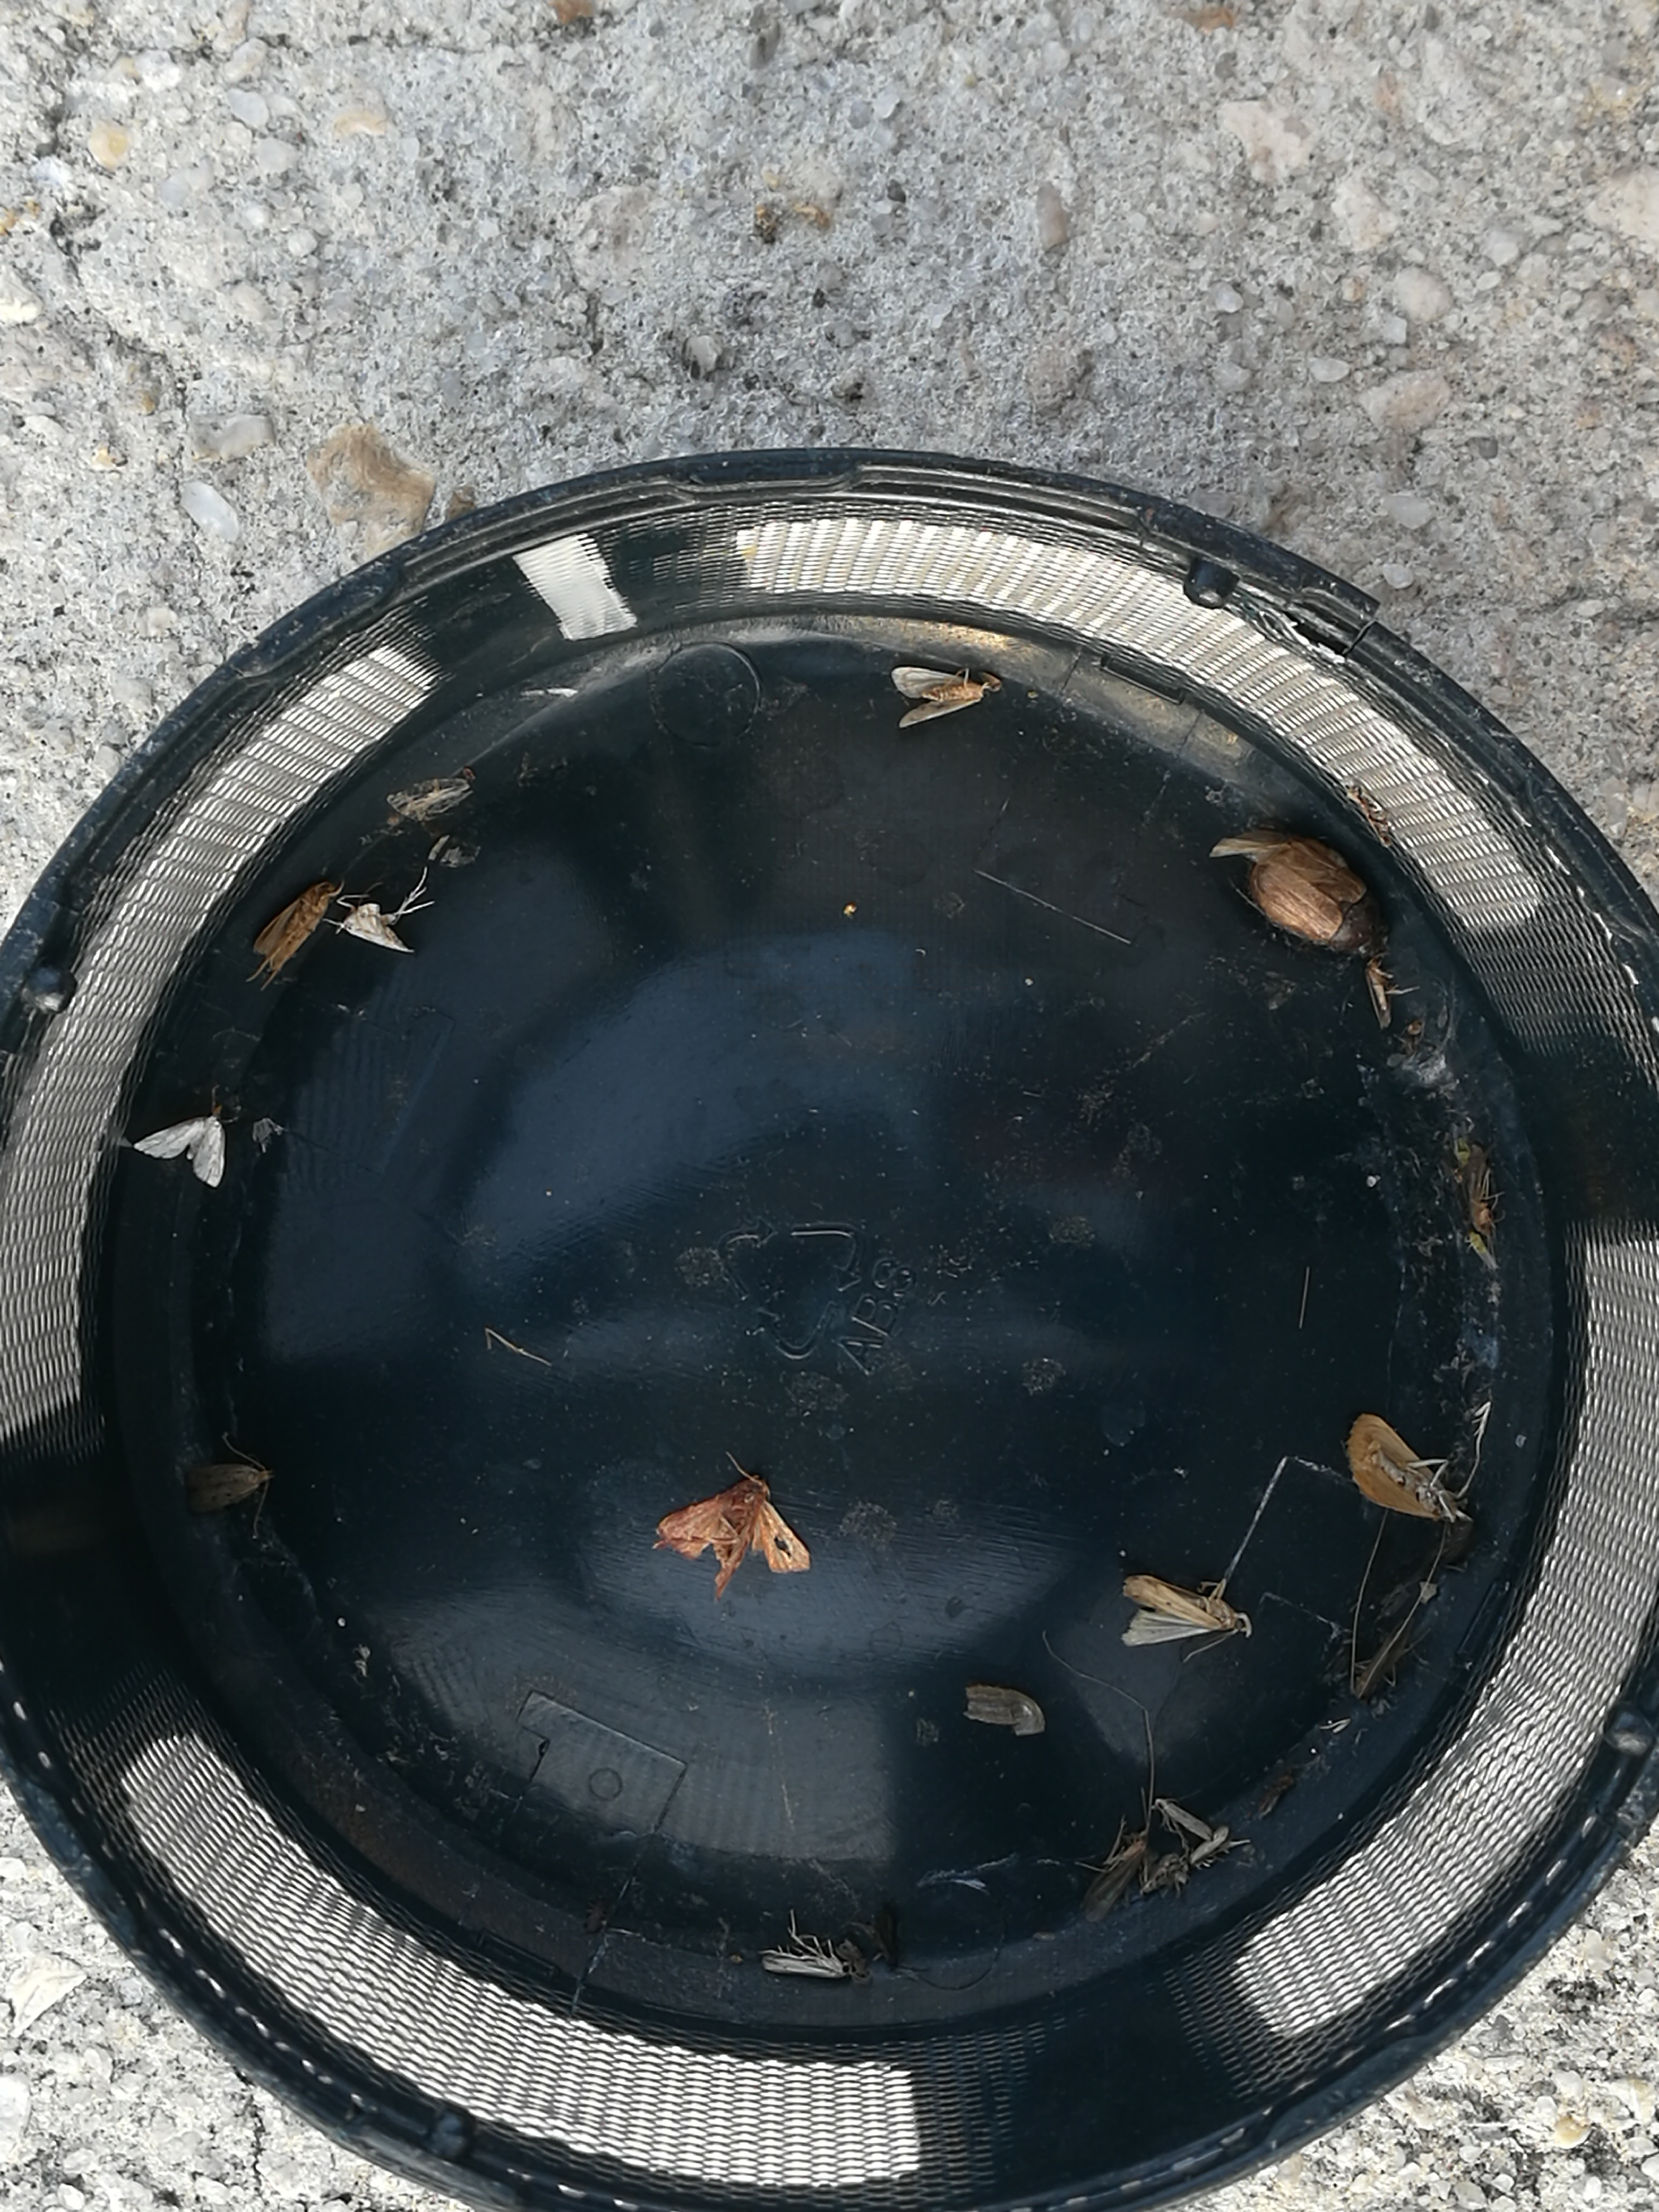beetle: (1248, 845, 1380, 951)
mosquito: (254, 874, 338, 970), (1082, 1831, 1147, 1925), (1354, 1616, 1415, 1700), (763, 1946, 852, 1979), (1466, 1144, 1493, 1231), (1152, 1797, 1209, 1838), (1188, 1829, 1230, 1864)
moth: (659, 1479, 812, 1597), (1351, 1416, 1471, 1522), (1122, 1575, 1249, 1646), (136, 1118, 225, 1188), (892, 667, 983, 726), (183, 1465, 270, 1515), (333, 902, 411, 953)
